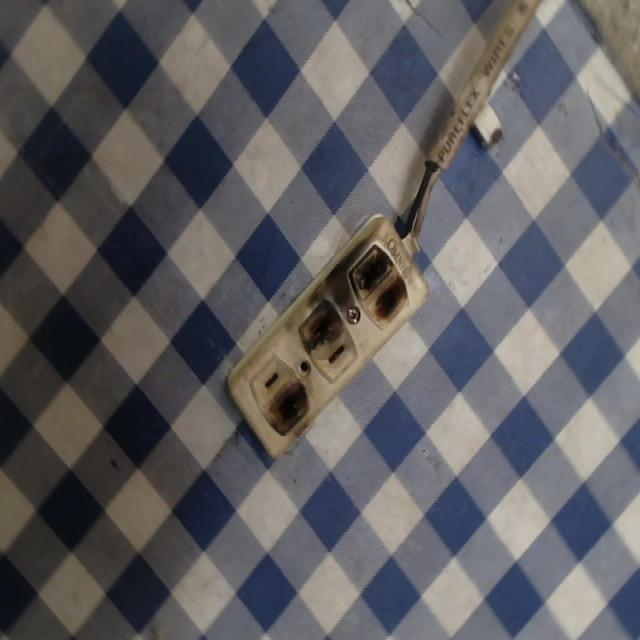-: (344, 233, 418, 332), (295, 289, 346, 355), (274, 371, 311, 433)
